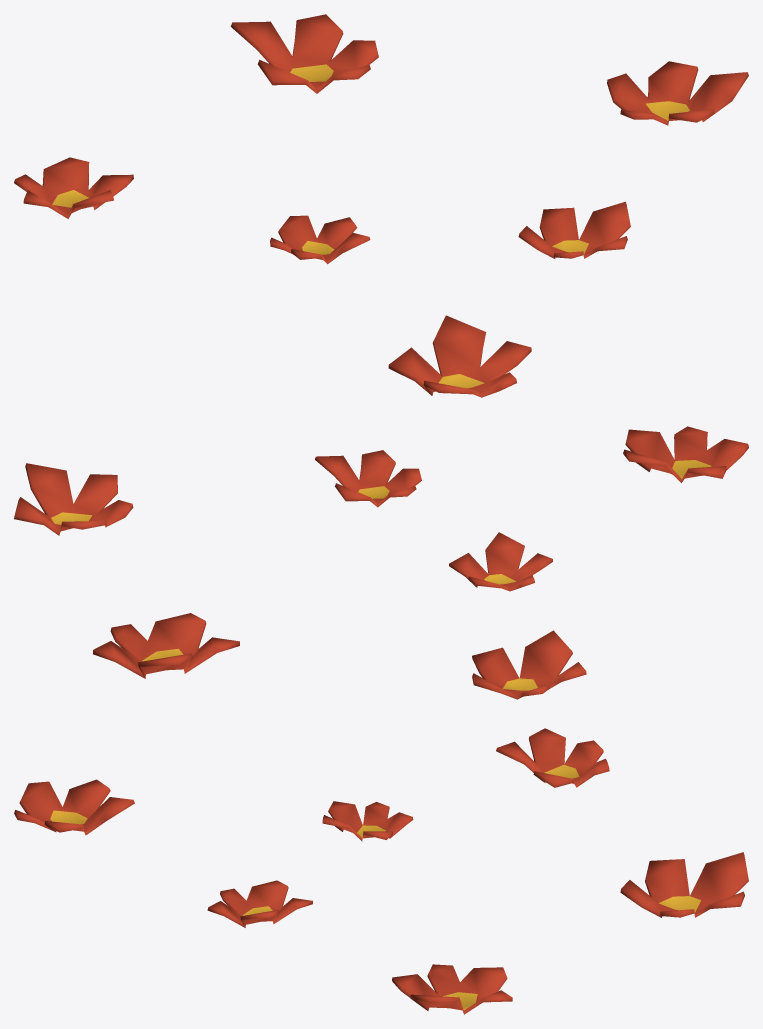
Rendered from rpgpp_ag_flowers_ground_01a.fbx.
3 views of the same model, one above another, from view 1: azimuth 30°, elevation 25°; view 2: azimuth 150°, elevation 25°; view 3: azimuth 270°, elevation 25° (orthographic). The views are drawn at different scales.
Parts seen in each view (by area): view 1: rpgpp_ag_flowers_ground_01a; view 2: rpgpp_ag_flowers_ground_01a; view 3: rpgpp_ag_flowers_ground_01a.
Boxes of the visible parts, x1,y1,x2,y2 form: rpgpp_ag_flowers_ground_01a: (14,14,748,397); rpgpp_ag_flowers_ground_01a: (14,426,748,699); rpgpp_ag_flowers_ground_01a: (14,728,748,1014).
Size of the model in its own units: 2.25 by 0.1465 by 2.46.
